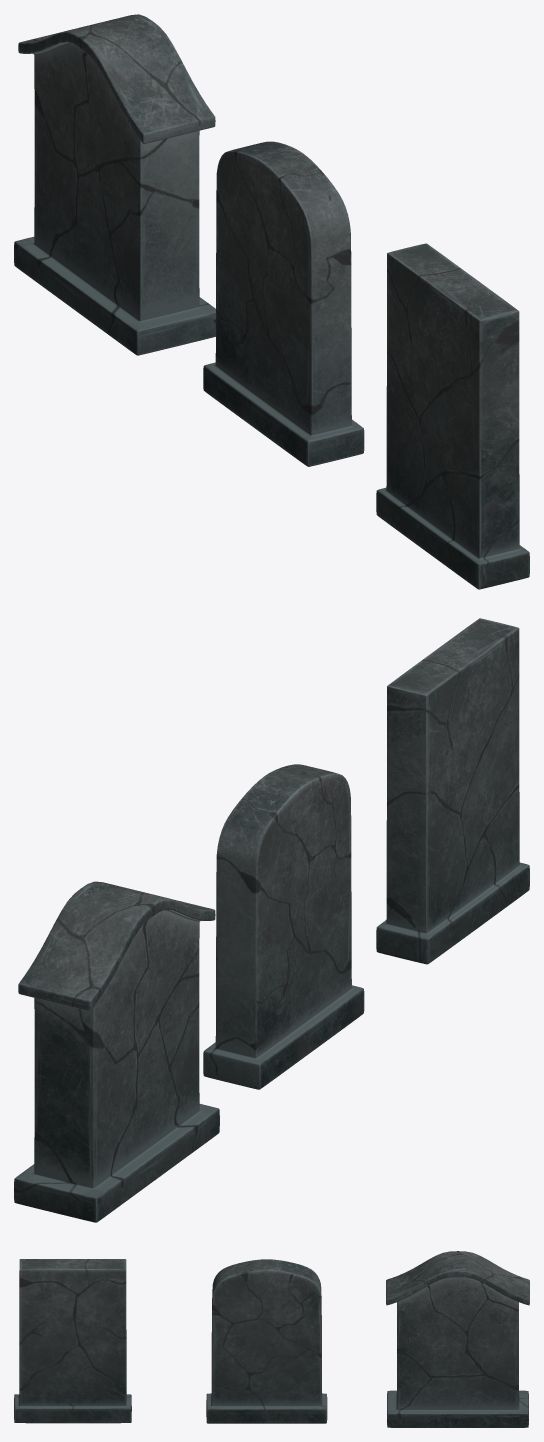
The model's file is grave.glb.
The picture shows the model from 3 angles, top to bottom: view 1: azimuth 30°, elevation 25°; view 2: azimuth 150°, elevation 25°; view 3: azimuth 270°, elevation 25°; orthographic projection. The views are drawn at different scales.
Parts seen in each view (by area): view 1: gravestone_roof_L, Gravestone_square_L, Gravestone_round_L; view 2: gravestone_roof_L, Gravestone_square_L, Gravestone_round_L; view 3: gravestone_roof_L, Gravestone_square_L, Gravestone_round_L.
Part boxes in pixels (bbox=[...]): gravestone_roof_L: bbox=[14, 14, 215, 355]; Gravestone_square_L: bbox=[376, 243, 529, 589]; Gravestone_round_L: bbox=[203, 141, 364, 466]; gravestone_roof_L: bbox=[14, 881, 219, 1222]; Gravestone_square_L: bbox=[376, 618, 529, 964]; Gravestone_round_L: bbox=[203, 764, 364, 1089]; gravestone_roof_L: bbox=[386, 1251, 529, 1427]; Gravestone_square_L: bbox=[14, 1259, 131, 1423]; Gravestone_round_L: bbox=[206, 1259, 327, 1423].
Bounding box in the file's own units: 164 × 510 × 1531.
1 material, 1 textured.
